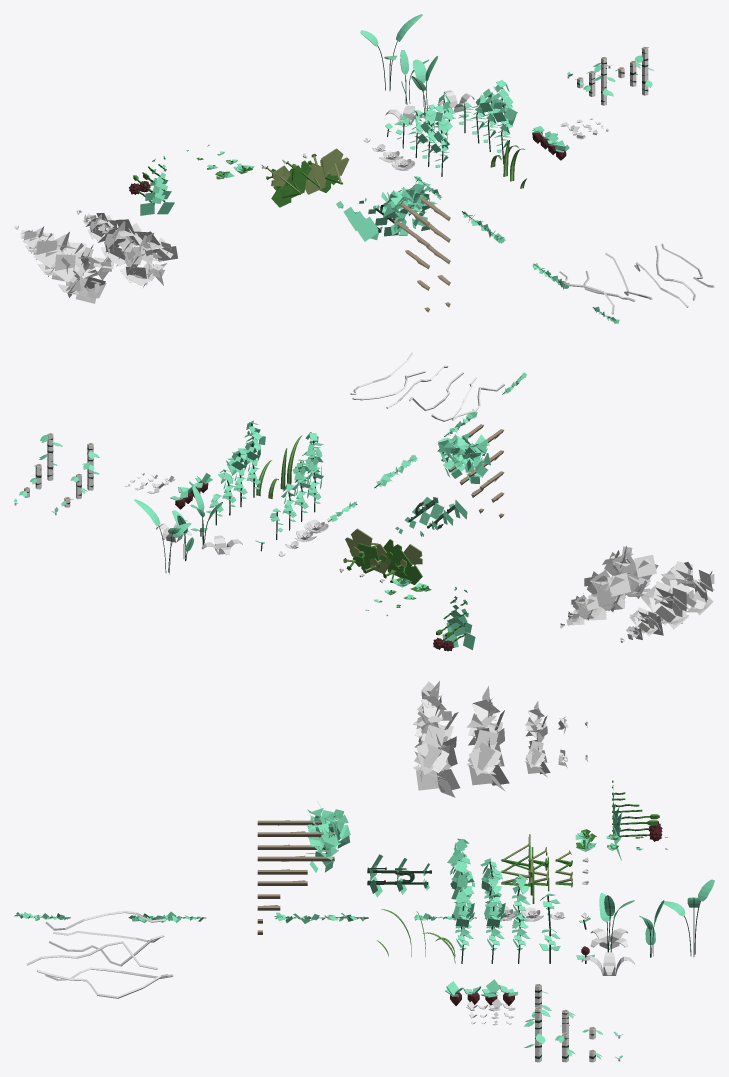
Rendered from Plants.fbx.
3 views of the same model, one above another, from view 1: azimuth 30°, elevation 25°; view 2: azimuth 150°, elevation 25°; view 3: azimuth 270°, elevation 25° (orthographic). The views are drawn at different scales.
Parts seen in each view (by area): view 1: Sweet Berry Bush 2 Stage 4, Sweet Berry Bush 1 Stage 4, Sweet Berry Bush 1 Stage 3, Sweet Berry Bush 2 Stage 3, Blood Berry 1 Stage 4, Blood Berry 2 Stage 4, Pond Boats 2 Stage 3, Spice Bark 1 Stage 4, Pond Boats 3 Stage 3, Pond Boats 1 Stage 3, Spice Bark 2 Stage 4, Bird of Paradise 3 (+4 smaller); view 2: Sweet Berry Bush 1 Stage 4, Sweet Berry Bush 2 Stage 4, Sweet Berry Bush 2 Stage 3, Sweet Berry Bush 1 Stage 3, Spice Bark 1 Stage 4, Pond Boats 2 Stage 3, Blood Berry 2 Stage 4, Blood Berry 1 Stage 4, Pond Boats 1 Stage 3, Spice Bark 2 Stage 4, Blood Berry 1 Stage 3, Blood Berry 2 Stage 3 (+3 smaller); view 3: Sweet Berry Bush 1 Stage 4, Sweet Berry Bush 1 Stage 3, Spice Bark 2 Stage 4, Sweet Berry Bush 2 Stage 4, Blood Berry 1 Stage 4, Sweet Berry Bush 2 Stage 3, Spice Bark 1 Stage 4, Blood Berry 1 Stage 3, Bird of Paradise 3, Blood Berry 2 Stage 4, Blood Berry 2 Stage 3, Sweet Berry Bush 1 Stage 2 (+1 smaller).
Boxes of the visible parts, x1,y1,x2,y2 form: Sweet Berry Bush 2 Stage 4: (53, 244, 114, 303); Sweet Berry Bush 1 Stage 4: (118, 231, 178, 287); Sweet Berry Bush 1 Stage 3: (97, 219, 147, 266); Sweet Berry Bush 2 Stage 3: (34, 232, 86, 281); Blood Berry 1 Stage 4: (492, 79, 517, 160); Blood Berry 2 Stage 4: (428, 94, 455, 176); Pond Boats 2 Stage 3: (271, 165, 306, 207); Spice Bark 1 Stage 4: (381, 186, 429, 226); Pond Boats 3 Stage 3: (292, 160, 326, 194); Pond Boats 1 Stage 3: (319, 148, 349, 192); Spice Bark 2 Stage 4: (401, 183, 450, 220); Bird of Paradise 3: (360, 14, 422, 90); Sweet Berry Bush 1 Stage 4: (602, 545, 658, 608); Sweet Berry Bush 2 Stage 4: (661, 561, 714, 623); Sweet Berry Bush 2 Stage 3: (641, 581, 688, 635); Sweet Berry Bush 1 Stage 3: (584, 567, 632, 620); Spice Bark 1 Stage 4: (455, 429, 503, 470); Pond Boats 2 Stage 3: (385, 544, 422, 584); Blood Berry 2 Stage 4: (302, 432, 323, 512); Blood Berry 1 Stage 4: (243, 420, 265, 497); Pond Boats 1 Stage 3: (345, 528, 380, 573); Spice Bark 2 Stage 4: (437, 424, 483, 467); Blood Berry 1 Stage 3: (226, 448, 247, 507); Blood Berry 2 Stage 3: (292, 459, 311, 521); Sweet Berry Bush 1 Stage 4: (413, 717, 460, 797); Sweet Berry Bush 1 Stage 3: (466, 723, 509, 791); Spice Bark 2 Stage 4: (257, 815, 350, 857); Sweet Berry Bush 2 Stage 4: (413, 681, 458, 747); Blood Berry 1 Stage 4: (451, 872, 474, 963); Sweet Berry Bush 2 Stage 3: (466, 686, 504, 745); Spice Bark 1 Stage 4: (257, 801, 348, 848); Blood Berry 1 Stage 3: (484, 894, 505, 963); Bird of Paradise 3: (660, 879, 714, 956); Blood Berry 2 Stage 4: (447, 838, 473, 929); Blood Berry 2 Stage 3: (480, 858, 502, 929); Sweet Berry Bush 1 Stage 2: (525, 737, 550, 777).
Bounding box in the file's own units: 3138 × 588 × 2587.
